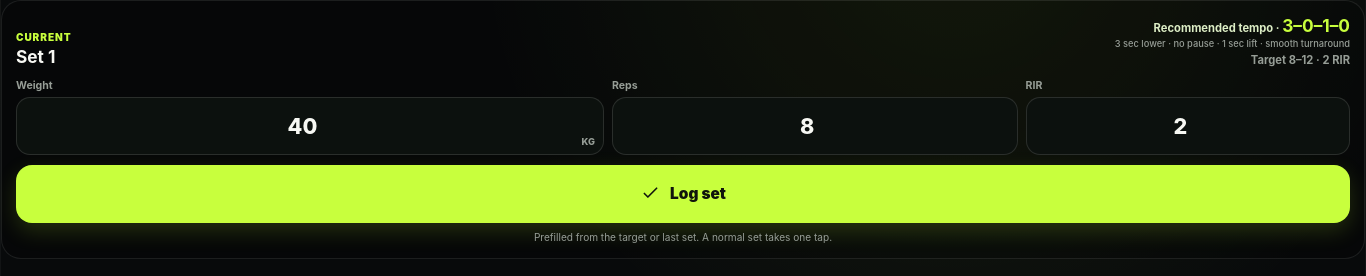
Phase 8 set submission hardening › rejects repetitions above the documented 200-rep boundary
Replace the text in the number field labelled "Reps" with "999": (815, 126) [612,97,1018,155]
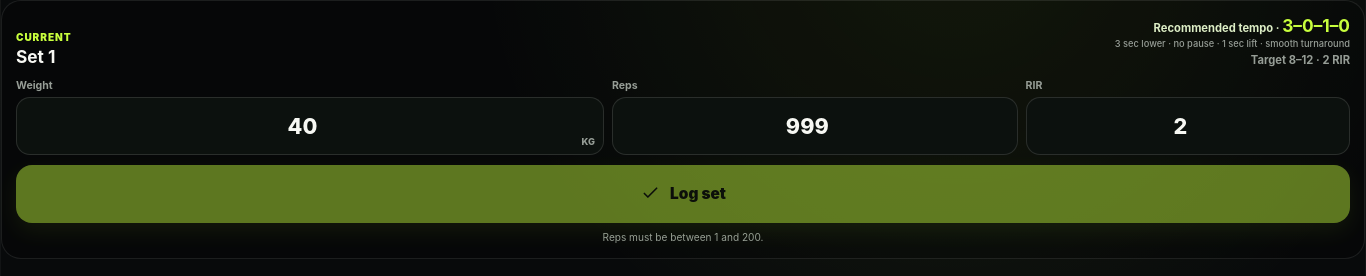
Result: the text "Reps must be between 1 and 200." is shown at [603,231,763,243]
Result: the button "Log set" is disabled at [16,165,1350,223]
